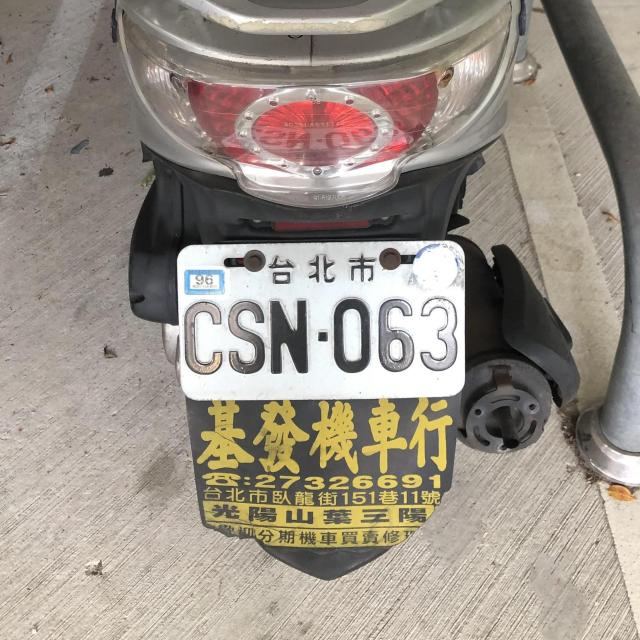W: (171, 230, 465, 403)
